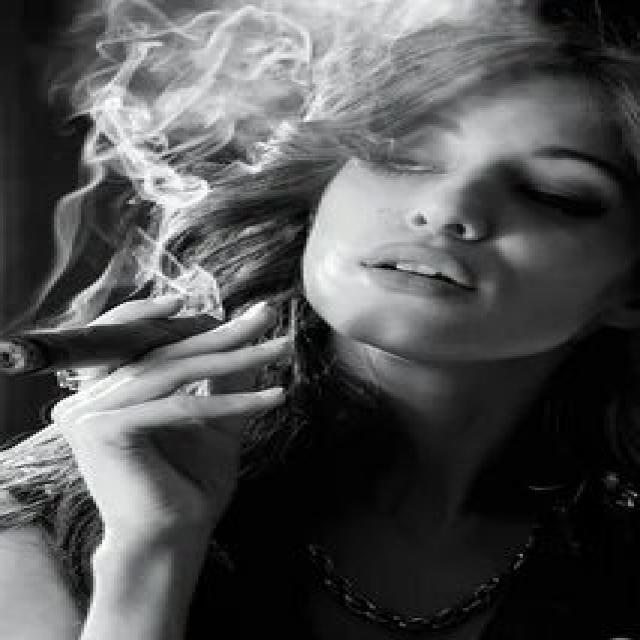cigarette: (0, 304, 237, 378)
